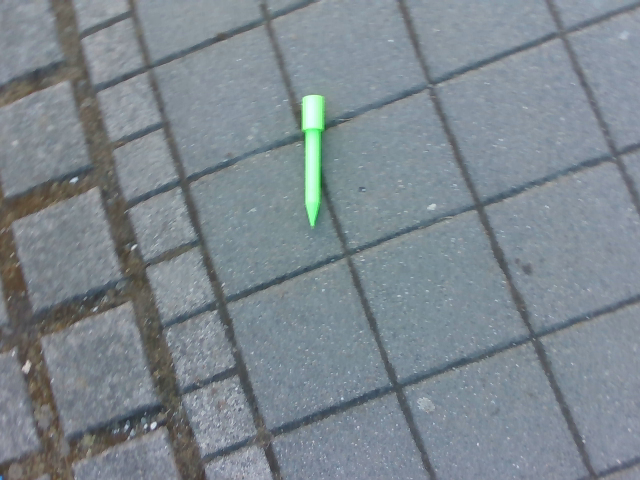Probe: (296, 88, 326, 236)
